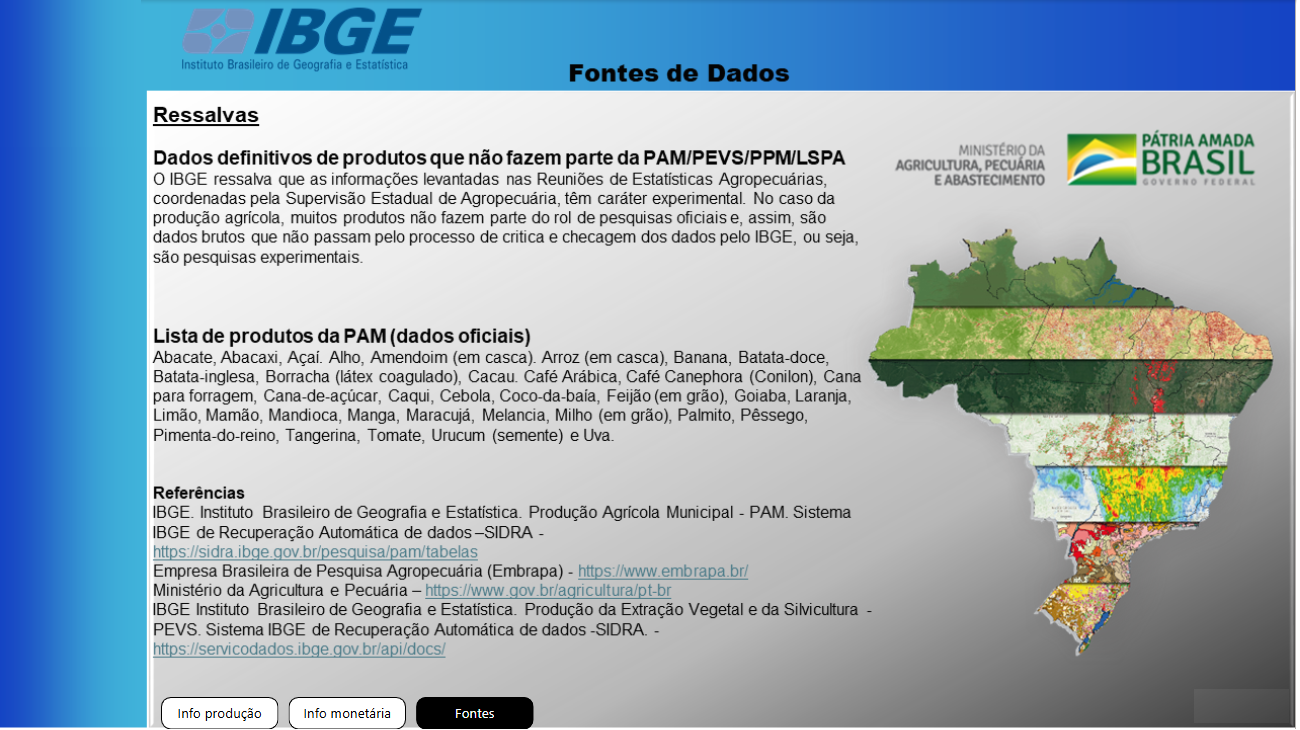

The page's visual inventory and layout, read from the dashboard file:
{"tool":"powerbi","page":{"name":"Fontes","canvas":[1280,720],"ordinal":2},"visuals":[{"type":"pageNavigator","box":[160,688,368,32],"z":0},{"type":"actionButton","box":[288,688,112,32],"z":1000},{"type":"actionButton","box":[160,688,112,32],"z":2000}]}

Visuals, with their boxes in screenshot pixels (x1, y1, x2, y2), scaled from the page's 1280x720 canvas onto the 1300x730 screenshot:
pageNavigator: [162, 698, 536, 729]
actionButton: [292, 698, 406, 729]
actionButton: [162, 698, 276, 729]
